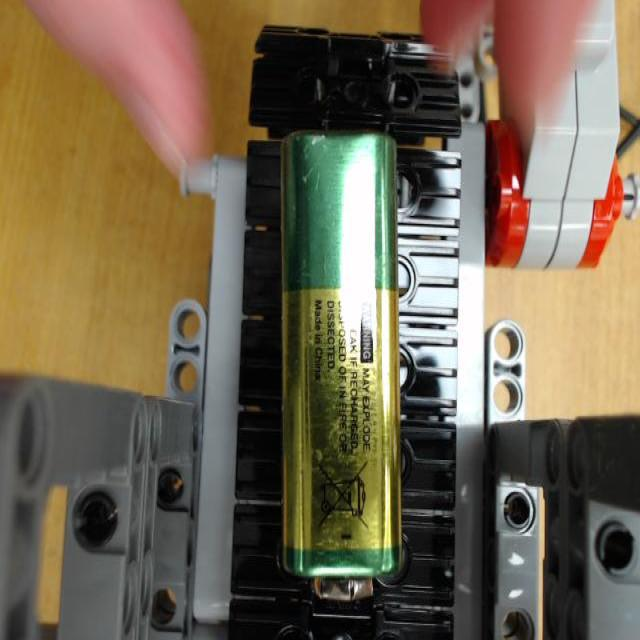9V: (282, 126, 399, 602)
